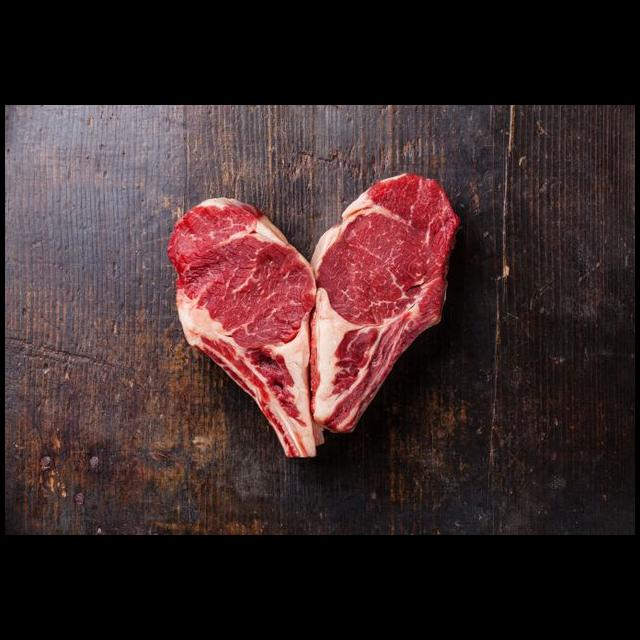beef: (165, 194, 320, 461), (309, 170, 461, 435)
